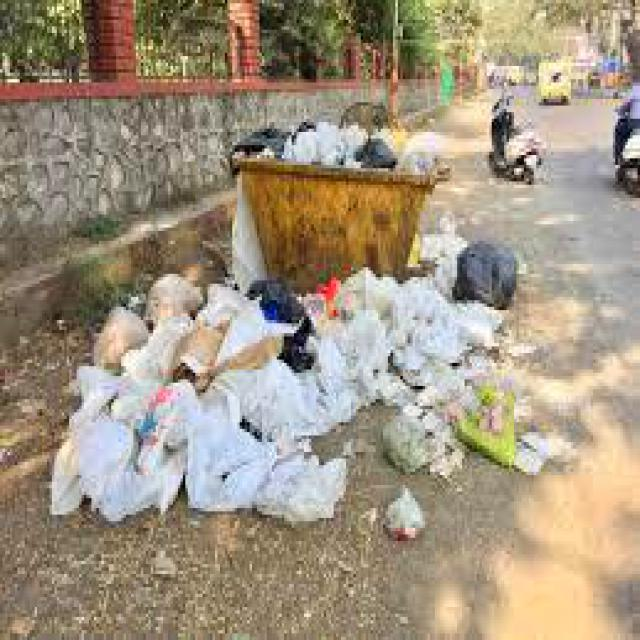garbage: (69, 297, 326, 518), (326, 270, 482, 406), (242, 122, 442, 178), (425, 238, 514, 324)
